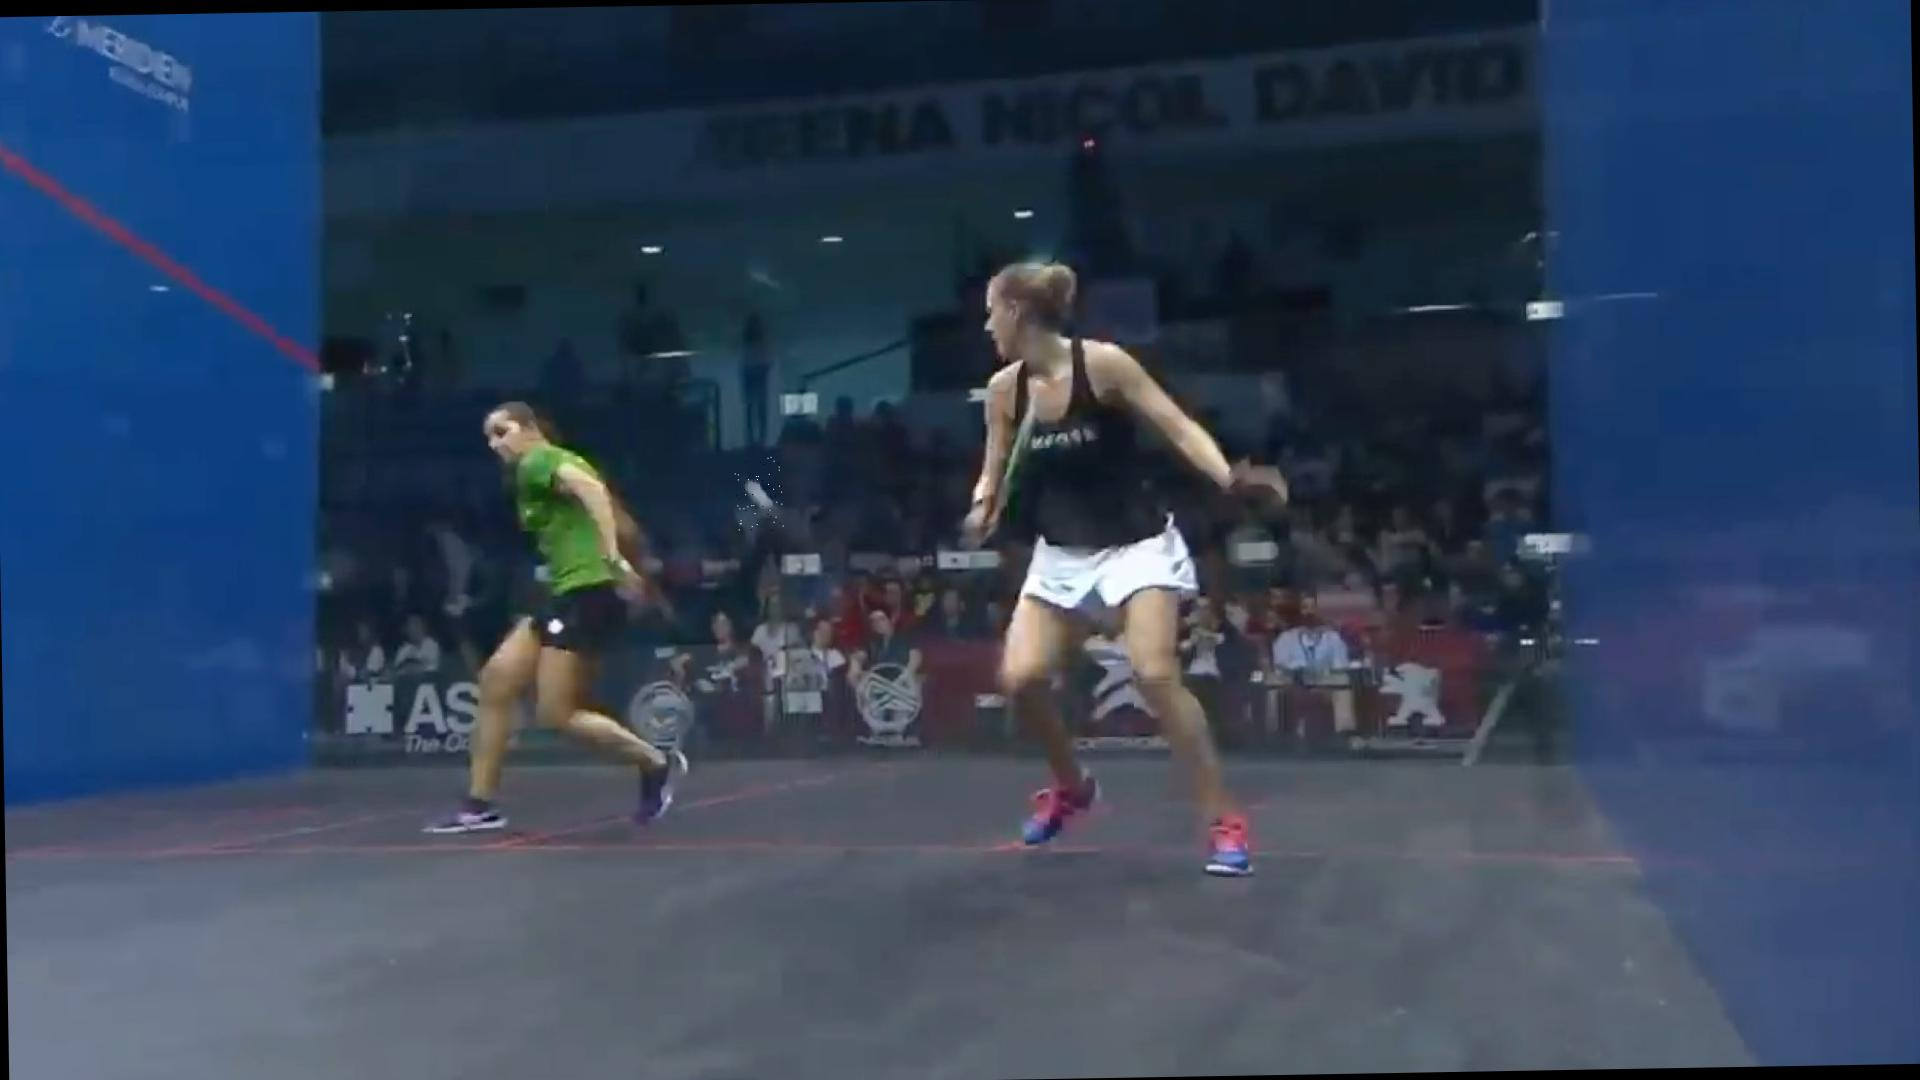Squash-Ball: (735, 456, 785, 531)
